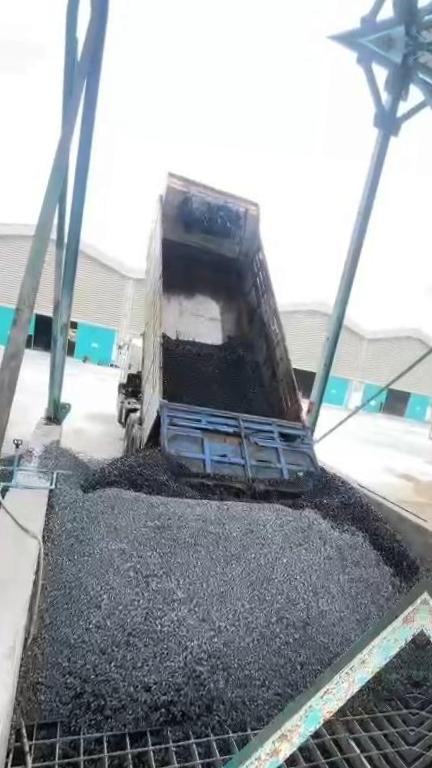gravel: (22, 430, 425, 733), (163, 337, 277, 414), (368, 635, 421, 693), (0, 485, 2, 550)
sand: (385, 479, 432, 526)
